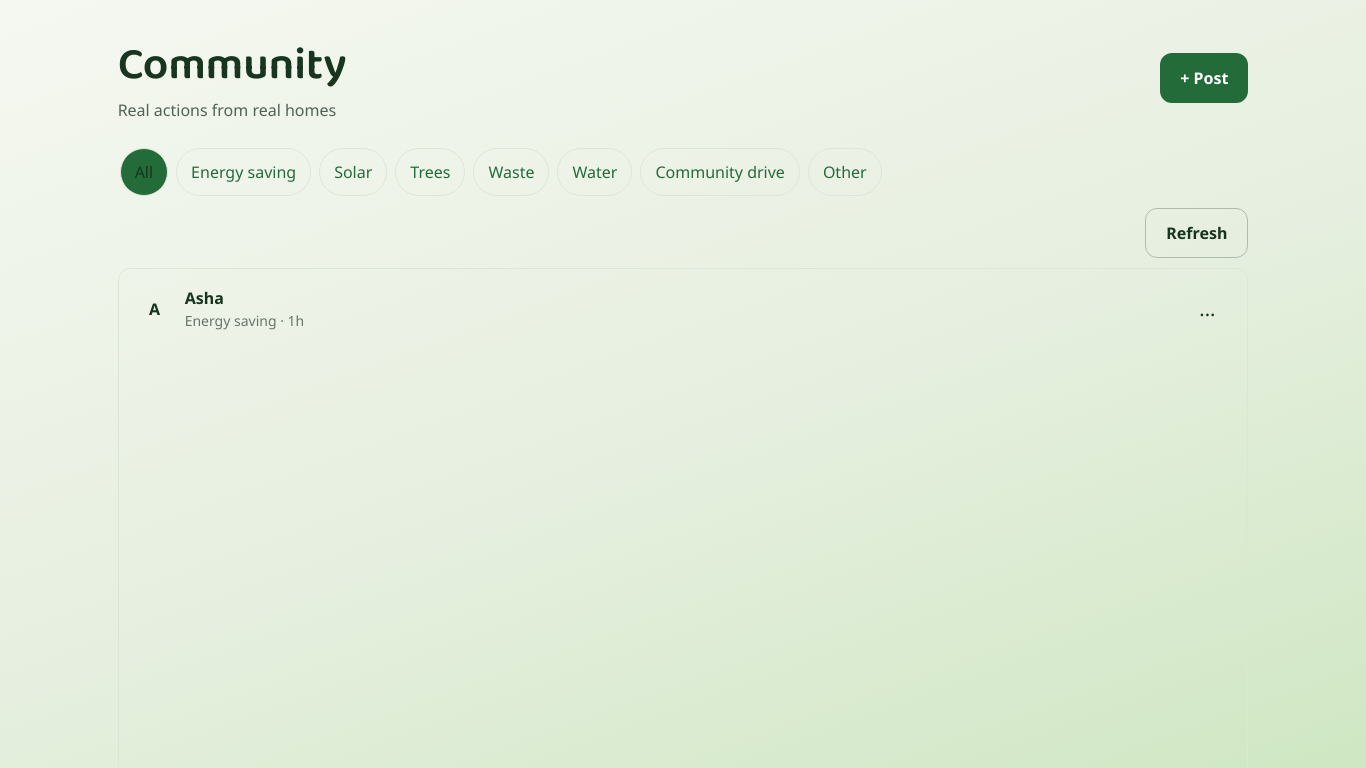
Test: Community feed › shows all posts when tag filter is reset
Check: the text "Asha" is shown, box x1=185 y1=287 x2=224 y2=309
What coordinates should you click on to do the following:
click the button "Solar"
I would click on:
 (353, 172)
Its box is x1=319 y1=148 x2=387 y2=196.
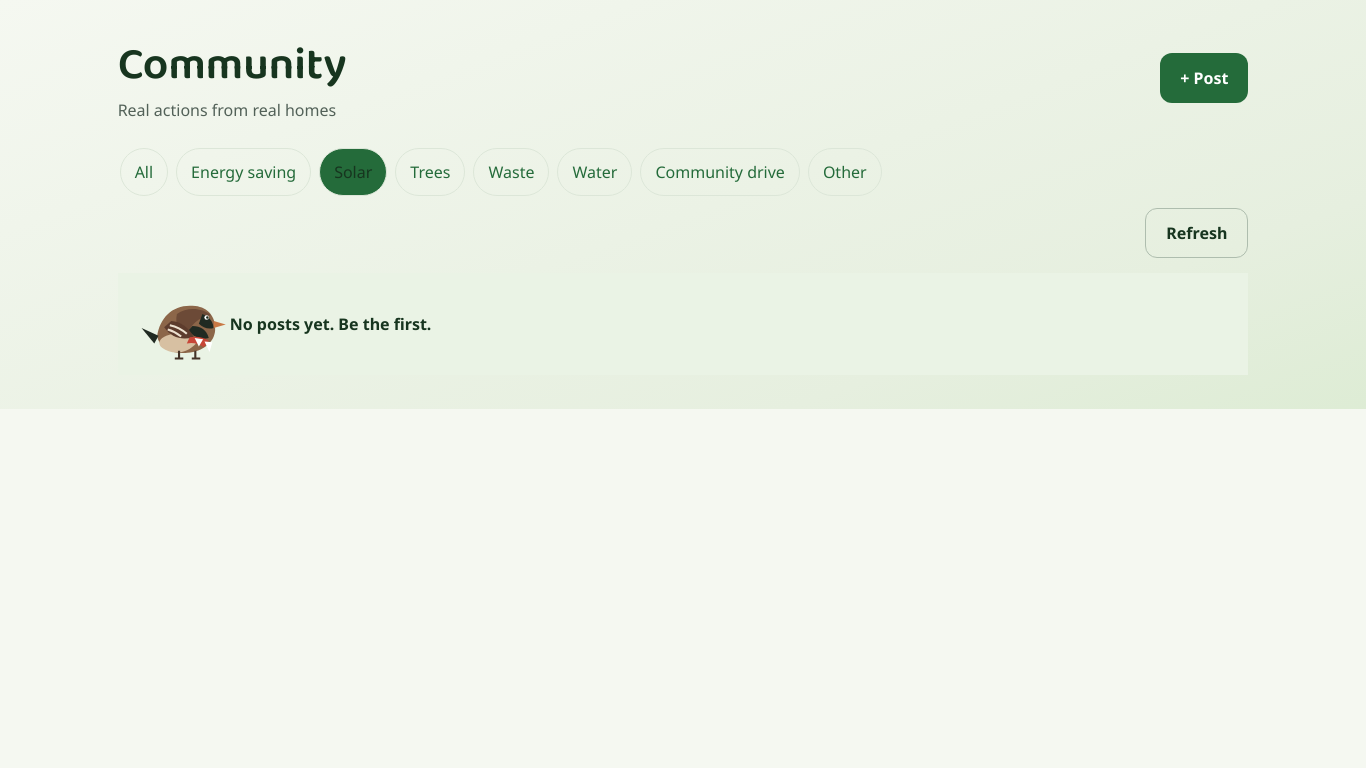
What coordinates should you click on to do the following:
click the button "All"
I would click on:
 (144, 172)
Its box is x1=120 y1=148 x2=168 y2=196.
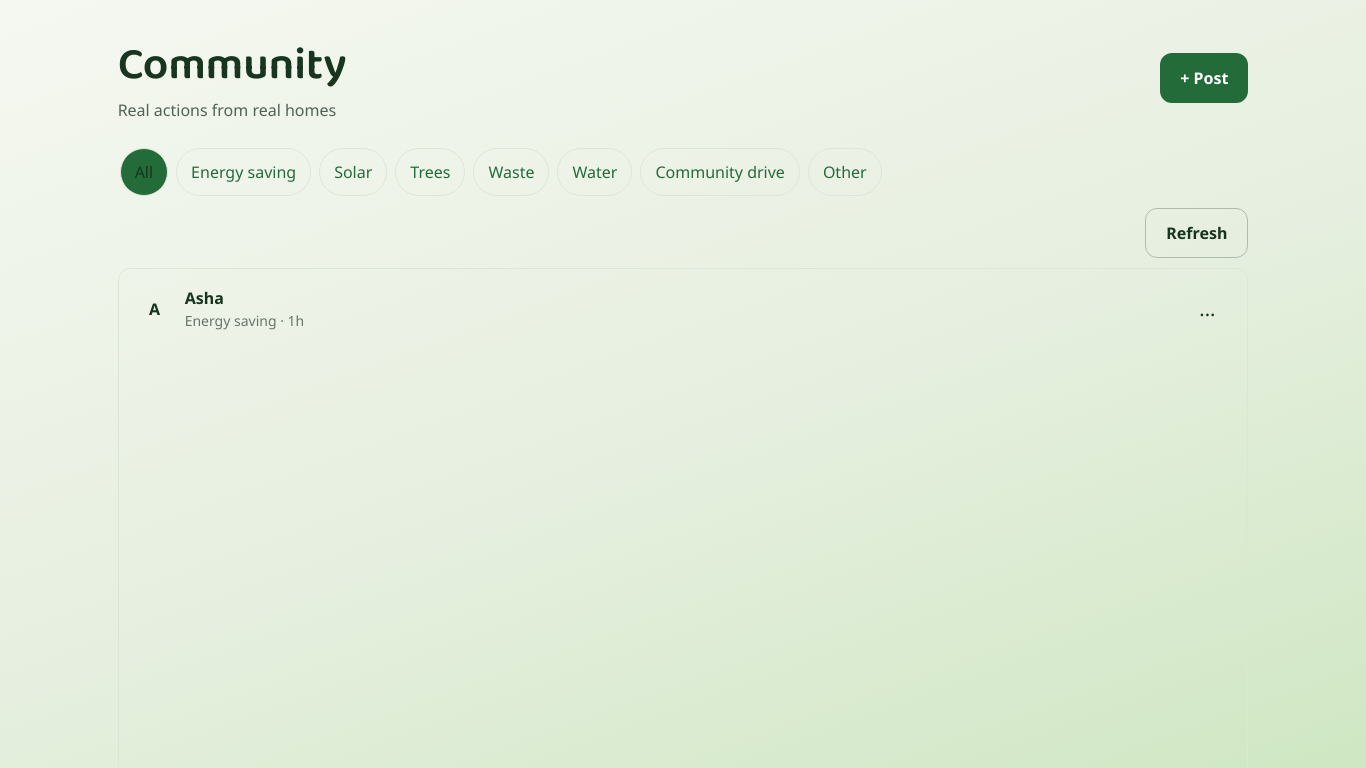
Check: the text "Asha" is shown, box x1=185 y1=287 x2=224 y2=309
